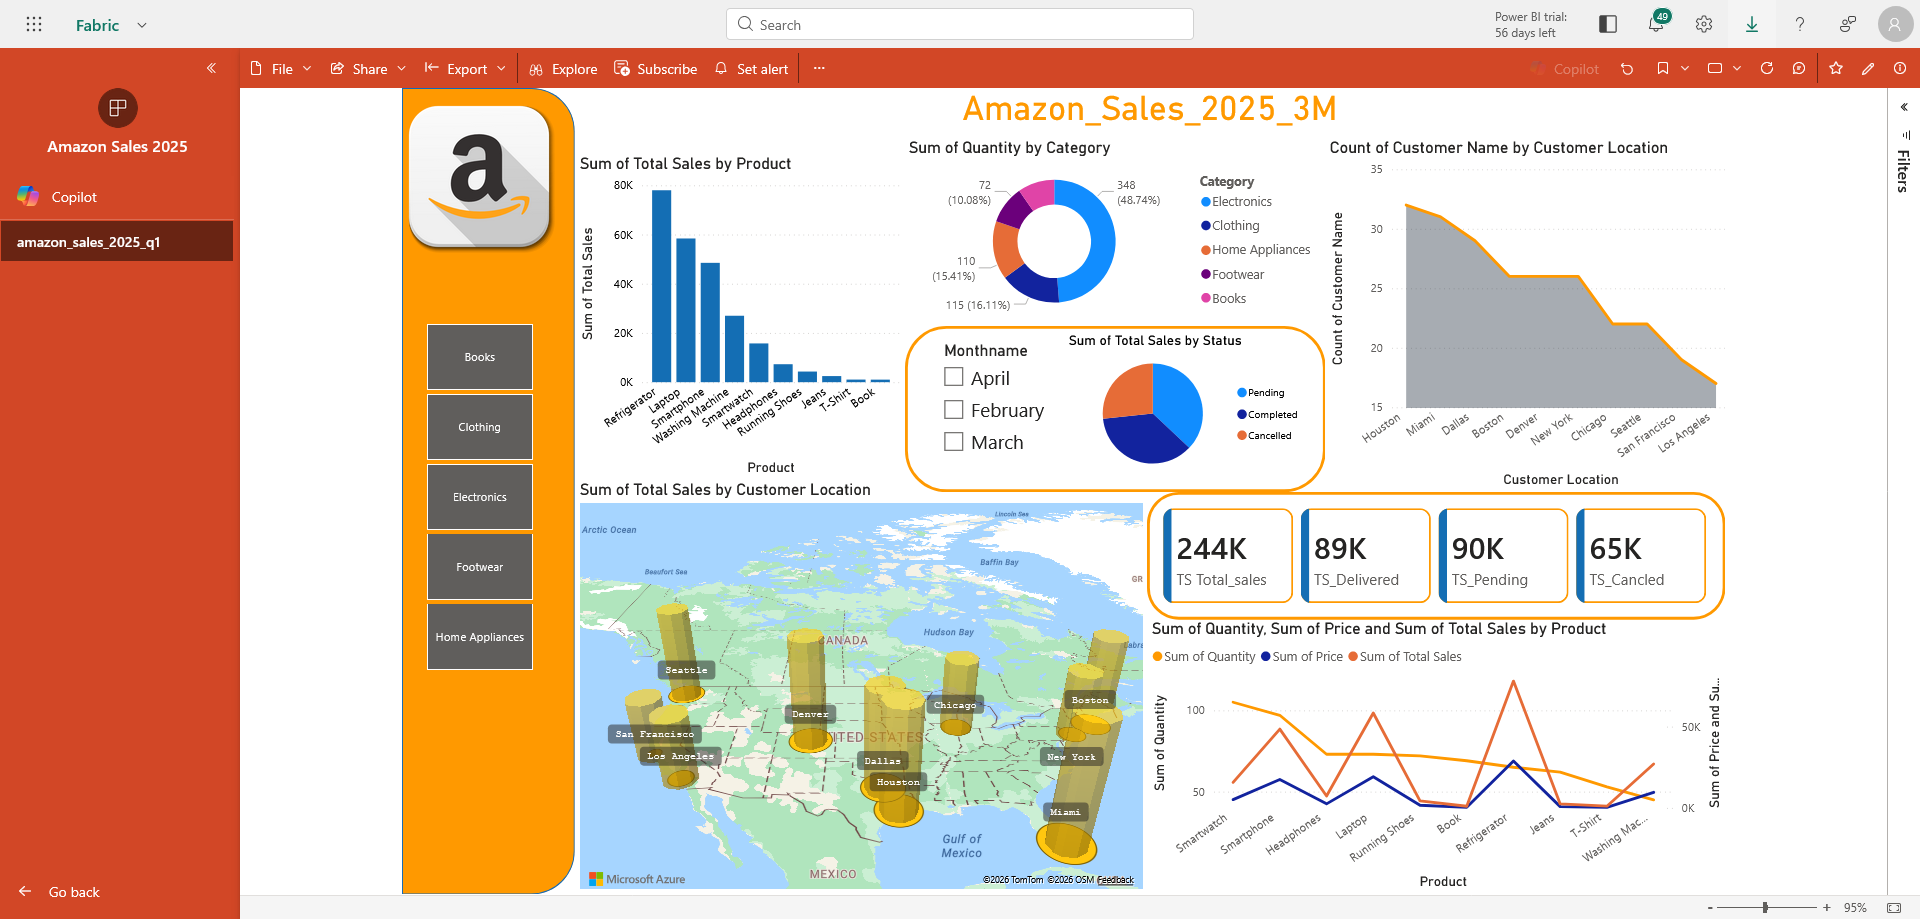

Layout of this report page (visuals, bound fields, positions):
{"tool":"powerbi","page":{"name":"Page 1","canvas":[1394,850],"ordinal":0},"visuals":[{"type":"shape","box":[0,0,181.9,849.4],"z":0},{"type":"textbox","title":"Amazon_Sales_2025_3M","box":[181.2,0,1212.8,52.6],"z":1000},{"type":"azureMap","fields":{"Size":["Sum(full table.Total Sales)"],"Category":["full table.Customer Location"]},"box":[181.9,413.1,603.2,436.3],"z":2000},{"type":"clusteredColumnChart","fields":{"Category":["full table.Product"],"Y":["Sum(full table.Total Sales)"]},"box":[181.9,69.1,347.2,343.3],"z":3000},{"type":"slicer","fields":{"Values":["full table.Monthname"]},"box":[558.2,261.7,153.8,150.7],"z":4000},{"type":"donutChart","fields":{"Y":["Sum(full table.Quantity)"],"Category":["full table.Category"]},"box":[529.1,52.5,442.6,198.4],"z":5000},{"type":"shape","box":[529.3,250.3,443.2,175.1],"z":6000},{"type":"lineChart","fields":{"Y":["Sum(full table.Quantity)"],"Category":["full table.Product"],"Y2":["Sum(full table.Price)","Sum(full table.Total Sales)"]},"box":[784.7,559.6,609.3,289.3],"z":7000},{"type":"areaChart","fields":{"Y":["CountNonNull(full table.Customer Name)"],"Category":["full table.Customer Location"]},"box":[972.2,52.3,431.4,372.7],"z":8000},{"type":"pieChart","fields":{"Y":["Sum(full table.Total Sales)"],"Category":["full table.Status"]},"box":[697,255.7,260.1,157.8],"z":9000},{"type":"cardVisual","fields":{"Data":["full table.Total_sales","full table.Total_Sales_sum_for_completed","full table.Total_Sales_sum_for_Pending","full table.Total_Sales_sum_for_canclled"]},"box":[784.7,425.2,609.3,134.4],"z":10000},{"type":"shape","box":[784.7,425.2,609.3,134.4],"z":11000},{"type":"slicer","fields":{"Values":["full table.Category"]},"box":[0,241.1,162.2,378.5],"z":12000},{"type":"image","box":[0,13.2,162.2,160.7],"z":12001}]}

Visuals, with their boxes on the page's 1394x850 design canvas (x1, y1, x2, y2). These are canvas units, not pixel positions in the 1920x919 screenshot, which may show the page scaled, cropped or inside an application window:
shape: crop(0, 0, 182, 849)
"Amazon_Sales_2025_3M" textbox: crop(181, 0, 1394, 53)
azureMap - Sum(full table.Total Sales) x full table.Customer Location: crop(182, 413, 785, 849)
clusteredColumnChart - full table.Product x Sum(full table.Total Sales): crop(182, 69, 529, 412)
slicer - full table.Monthname: crop(558, 262, 712, 412)
donutChart - Sum(full table.Quantity) x full table.Category: crop(529, 52, 972, 251)
shape: crop(529, 250, 972, 425)
lineChart - Sum(full table.Quantity) x full table.Product: crop(785, 560, 1394, 849)
areaChart - CountNonNull(full table.Customer Name) x full table.Customer Location: crop(972, 52, 1404, 425)
pieChart - Sum(full table.Total Sales) x full table.Status: crop(697, 256, 957, 414)
cardVisual - full table.Total_sales x full table.Total_Sales_sum_for_completed: crop(785, 425, 1394, 560)
shape: crop(785, 425, 1394, 560)
slicer - full table.Category: crop(0, 241, 162, 620)
image: crop(0, 13, 162, 174)
